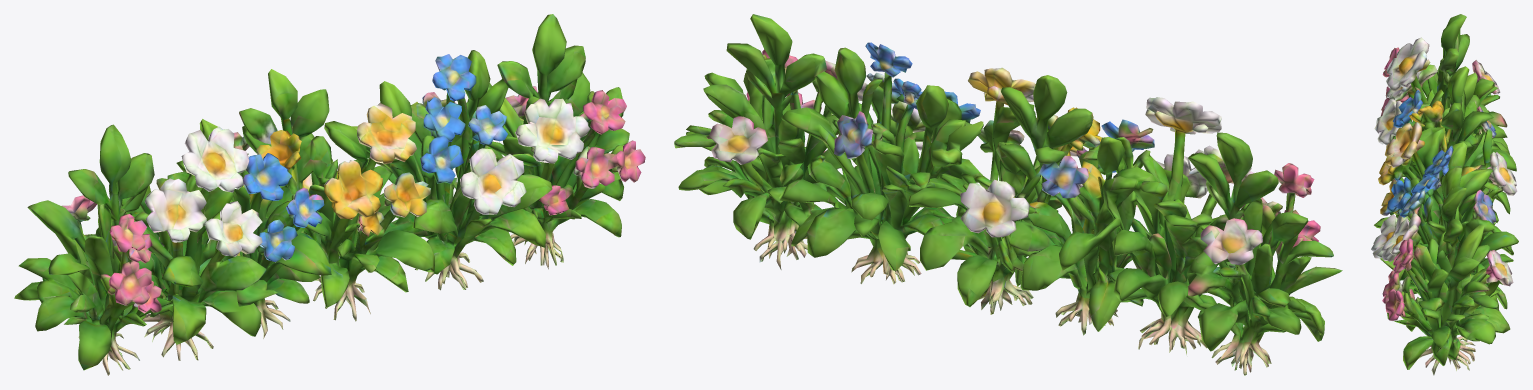
3 views of the same model, side by side, from view 1: azimuth 30°, elevation 25°; view 2: azimuth 150°, elevation 25°; view 3: azimuth 270°, elevation 25° (orthographic). The views are drawn at different scales.
Size of the model in its own units: 1.9 by 0.7573 by 0.5026.
1 material, 1 textured.
